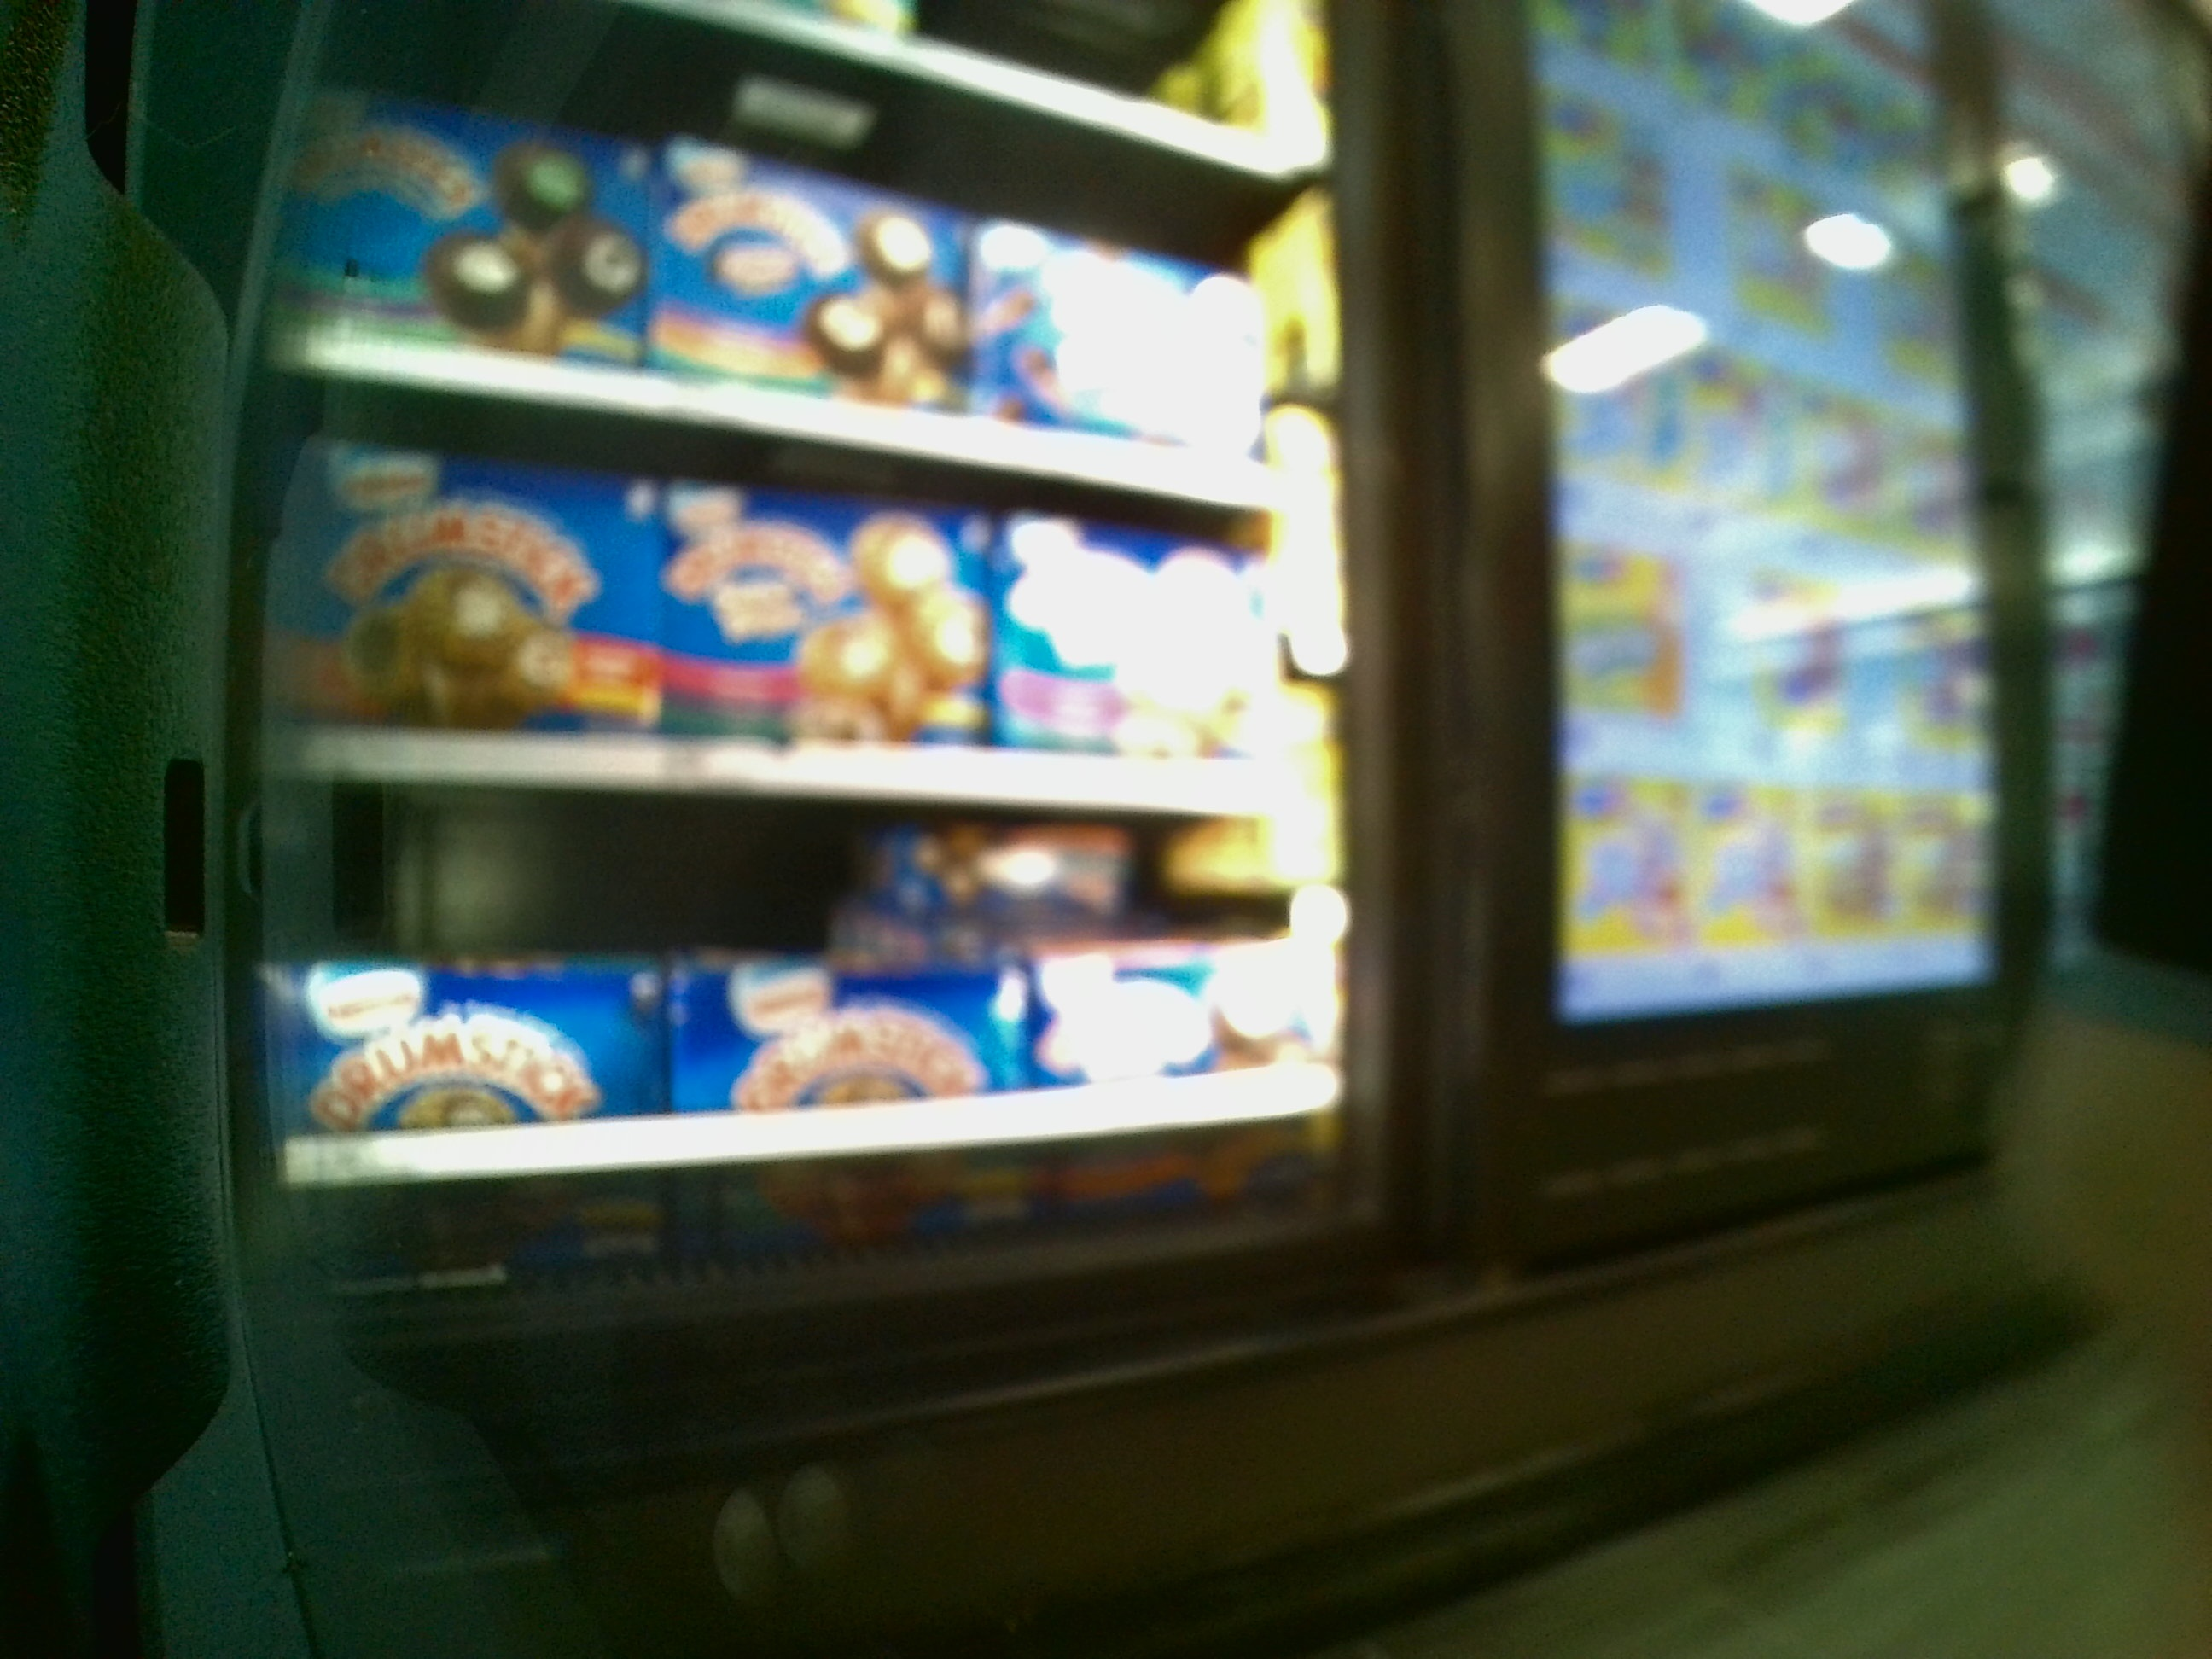shelf: (294, 816, 1338, 1267), (266, 474, 1338, 817)
